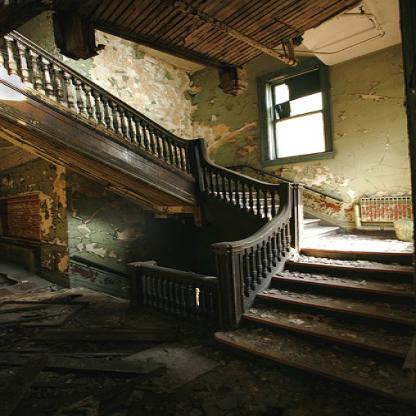stairs: (244, 303, 416, 395)
